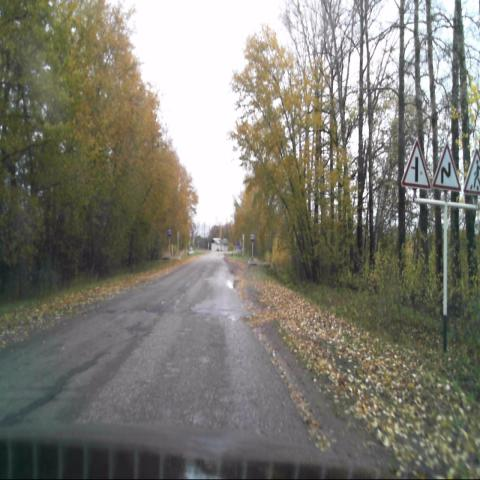1_12: (434, 144, 460, 191)
2_3_3: (402, 137, 430, 189)
